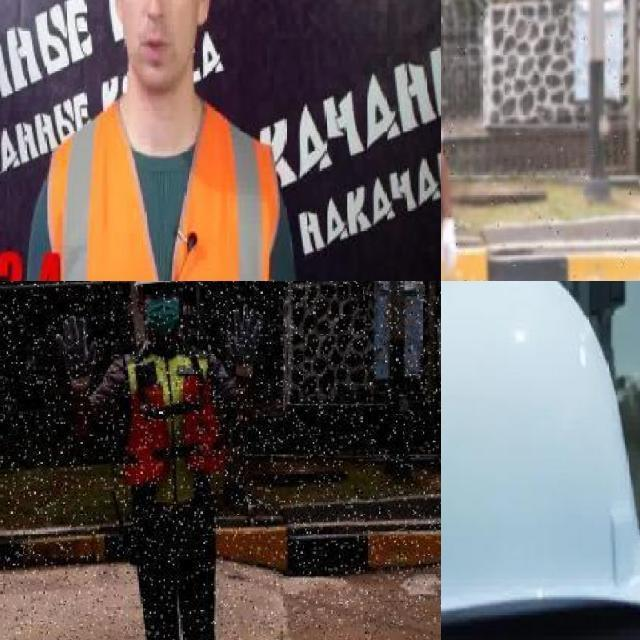apron: (54, 314, 99, 392), (224, 304, 264, 377), (441, 214, 459, 279)
